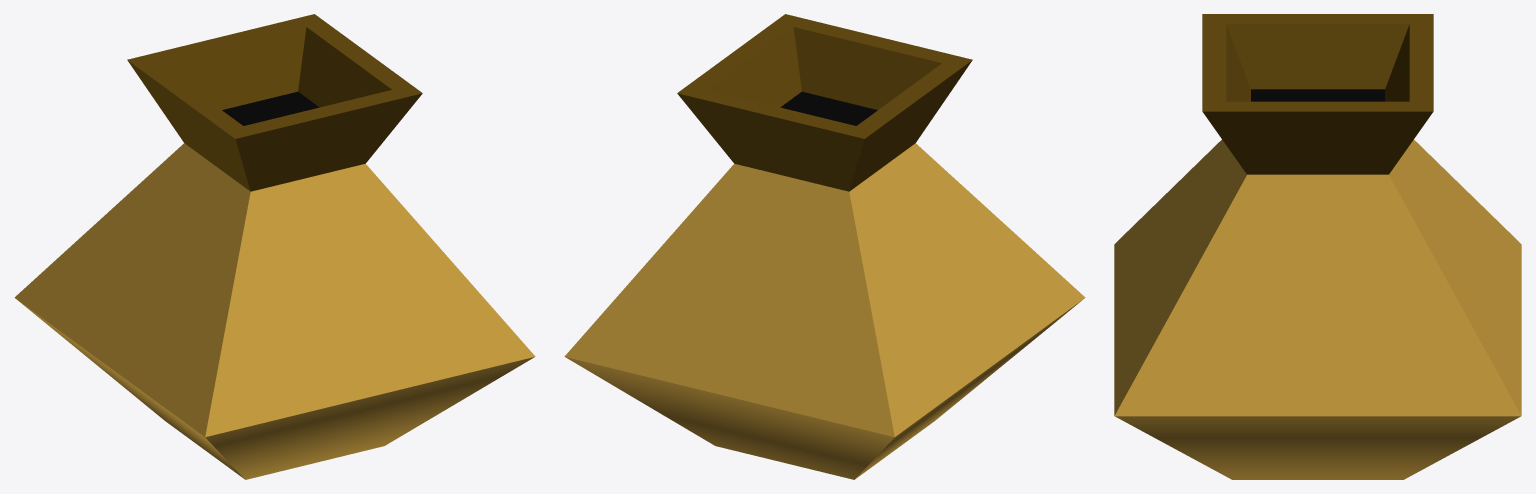
Rendered from Urn 03.FBX.
3 renders of one model, left to right at view 1: azimuth 30°, elevation 25°; view 2: azimuth 150°, elevation 25°; view 3: azimuth 270°, elevation 25°, orthographic. The views are drawn at different scales.
Parts seen in each view (by area): view 1: Urn 03; view 2: Urn 03; view 3: Urn 03.
Part boxes in pixels (x1,y1,x2,y2): Urn 03: (14,14,535,479); Urn 03: (564,14,1085,479); Urn 03: (1114,14,1521,479).
Size of the model in its own units: 61.36 by 63.36 by 61.36.
